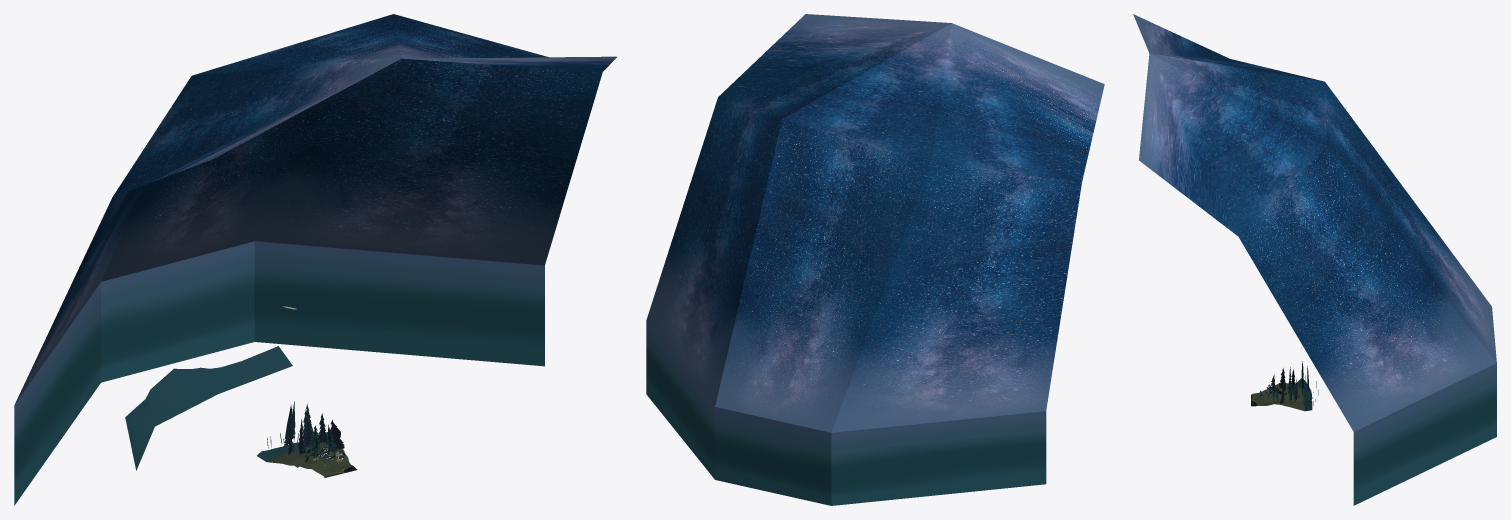
File: ShinyJirachiScene.fbx
The picture shows the model from 3 angles, left to right: view 1: azimuth 30°, elevation 25°; view 2: azimuth 150°, elevation 25°; view 3: azimuth 270°, elevation 25°; orthographic projection. The views are drawn at different scales.
Visible parts, largest first — view 1: jirachiSkyDomeGeo, jirachiFarHillGeo, jirachiBaseWorldGeo, jirachiPineTreeCardGeo; view 2: jirachiSkyDomeGeo; view 3: jirachiSkyDomeGeo, jirachiBaseWorldGeo, jirachiPineTreeCardGeo.
Boxes of the visible parts, x1,y1,x2,y2 form: jirachiSkyDomeGeo: (14,14,616,505); jirachiFarHillGeo: (125,346,331,470); jirachiBaseWorldGeo: (267,441,352,476); jirachiPineTreeCardGeo: (284,401,344,455); jirachiSkyDomeGeo: (646,14,1104,505); jirachiSkyDomeGeo: (1133,14,1496,505); jirachiBaseWorldGeo: (1252,382,1304,411); jirachiPineTreeCardGeo: (1273,361,1311,404).
Size of the model in its own units: 138 by 118 by 110.
19 materials, 19 textured.
